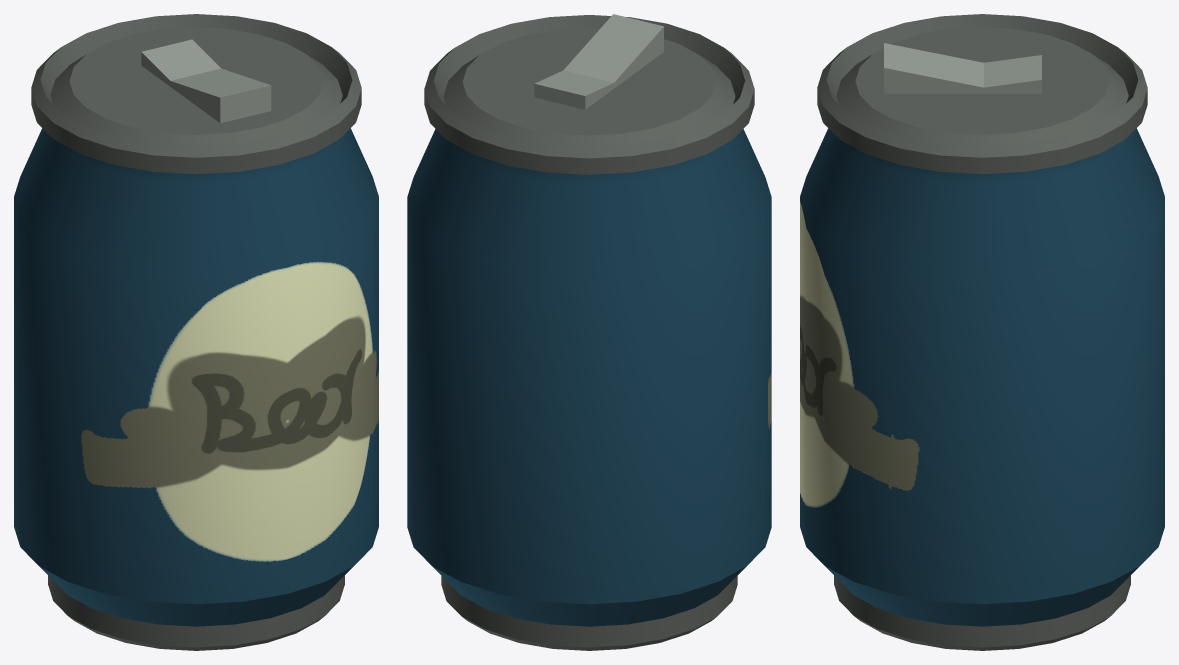
The model's file is Can_Beer.fbx.
3 renders of one model, left to right at view 1: azimuth 30°, elevation 25°; view 2: azimuth 150°, elevation 25°; view 3: azimuth 270°, elevation 25°, orthographic.
Visible parts, largest first — view 1: Can_Beer; view 2: Can_Beer; view 3: Can_Beer.
Boxes of the visible parts, x1,y1,x2,y2 form: Can_Beer: (14,14,378,650); Can_Beer: (407,14,771,650); Can_Beer: (800,14,1164,650).
Bounding box in the file's own units: 126 × 204 × 126.
Materials: 1 (1 with a texture image).
